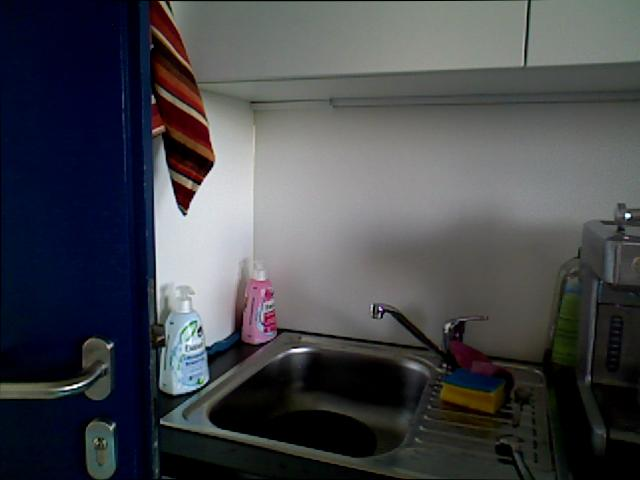bench: (547, 237, 590, 380)
bird: (155, 277, 212, 396), (237, 258, 283, 356)
couch: (160, 329, 433, 471)
toilet: (494, 432, 546, 480), (506, 377, 534, 430)
